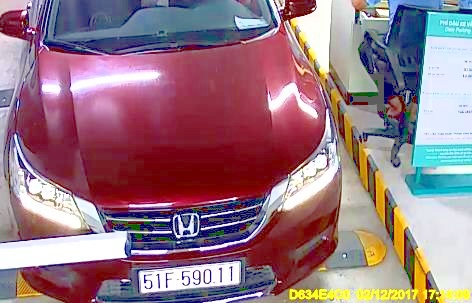plate: (133, 259, 242, 291)
